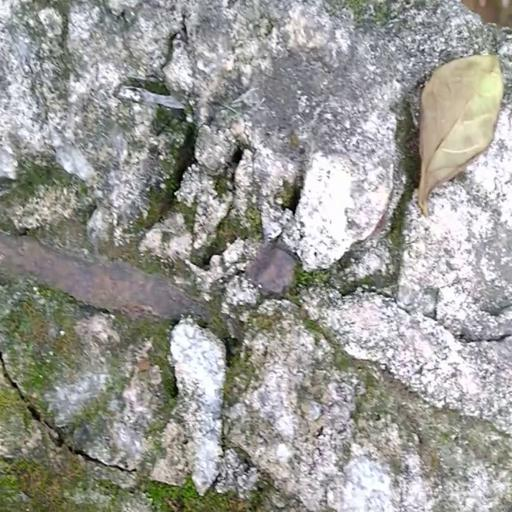spalling: (6, 100, 424, 512)
